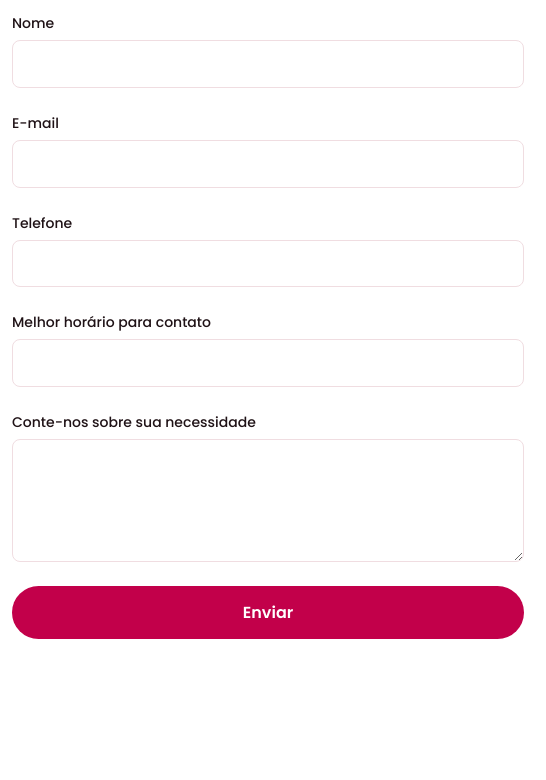
Test: ContactForm › shows validation errors per field and does not submit when required fields are empty
Click the button "Enviar". click: click(268, 612)
box: [12, 586, 524, 639]
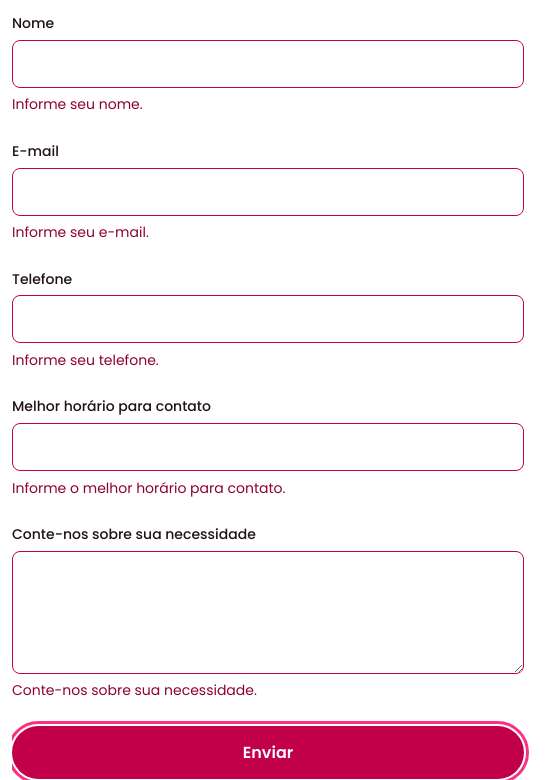
Expected: the text "Informe seu nome." is shown, [12, 94, 143, 114]
Expected: the text "Informe seu e-mail." is shown, [12, 222, 149, 242]
Expected: the text "Informe seu telefone." is shown, [12, 350, 159, 370]
